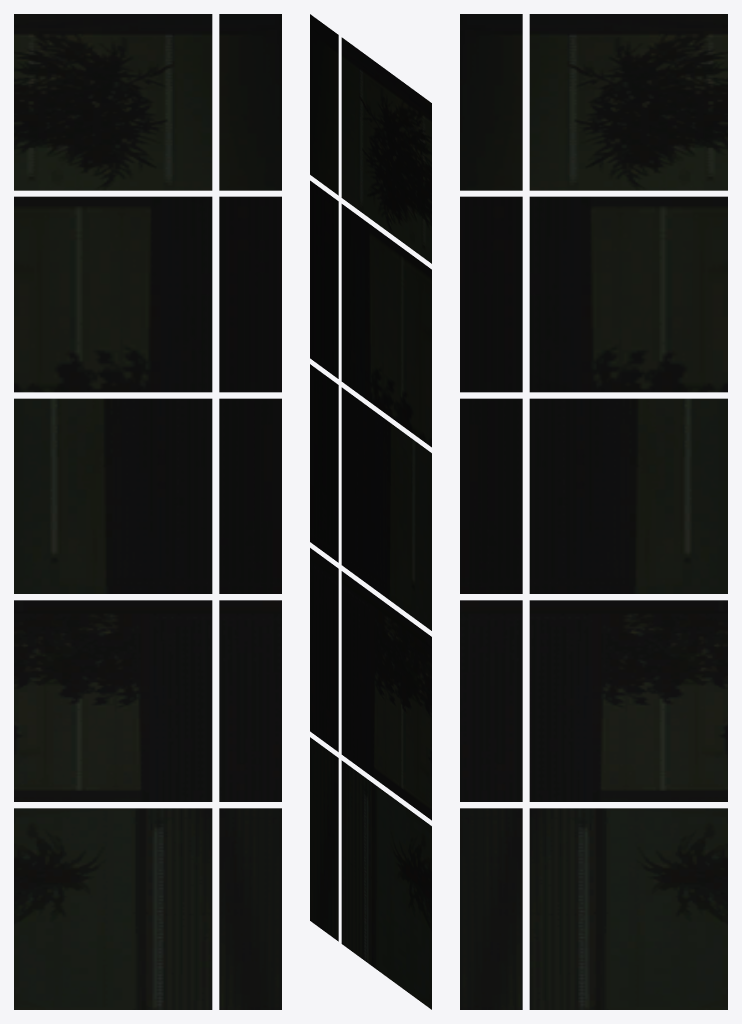
Rendered from short.glb.
3 views of the same model, side by side, from view 1: azimuth 90°, elevation 25°; view 2: azimuth 210°, elevation 25°; view 3: azimuth 270°, elevation 25° (orthographic). The views are drawn at different scales.
Visible parts, largest first — view 1: g_short; view 2: g_short; view 3: g_short.
Part boxes in pixels (<box>): g_short: <box>14,14,281,1009</box>; g_short: <box>310,14,431,1009</box>; g_short: <box>460,14,727,1009</box>.
Size of the model in its own units: 0 by 15.8 by 3.85.
1 material, 1 textured.
